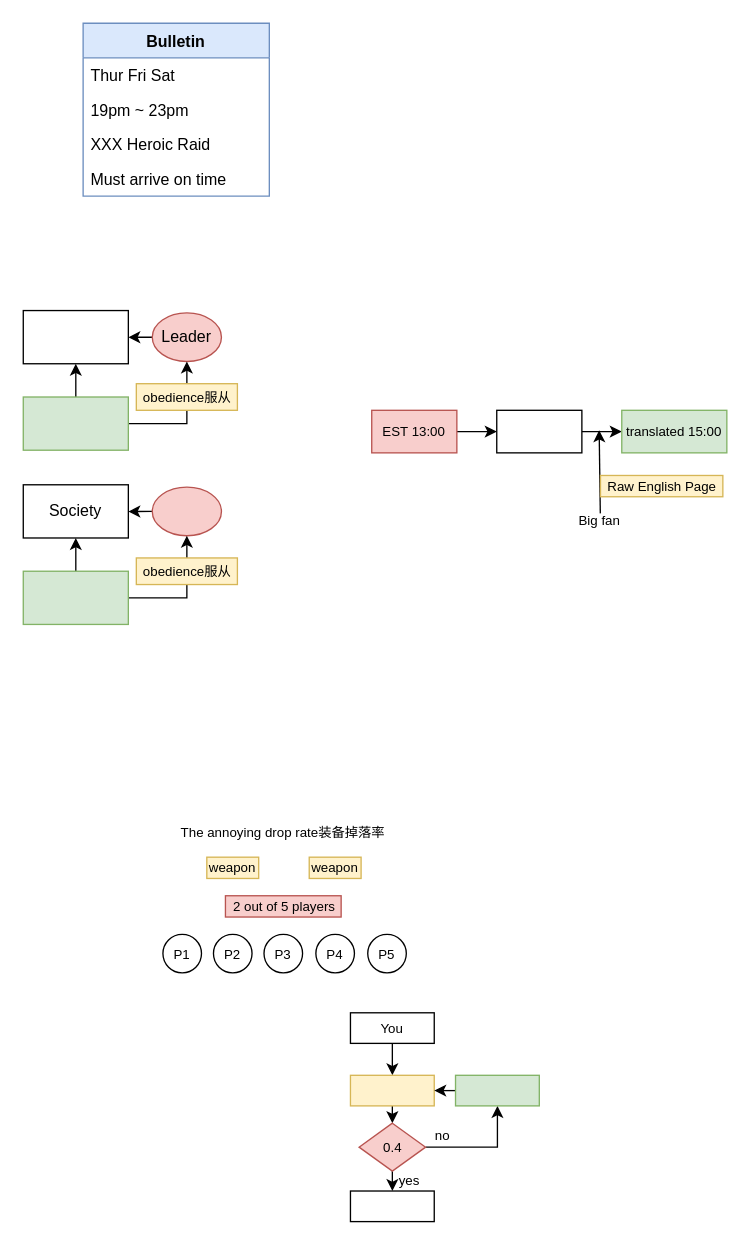
This 750x1245 diagram has some shape labels left out. Each missing label, with the centre of its shape:
CST 1:00: the point at 538,431
Dungeon 30 min: the point at 391,1090
got nowhere/ gain nothing: the point at 496,1090
subordinate下属: the point at 75,597
Superior 上级: the point at 186,511
Teammates: the point at 75,423
Voice Channel: the point at 75,336
you succeeded: the point at 391,1206
